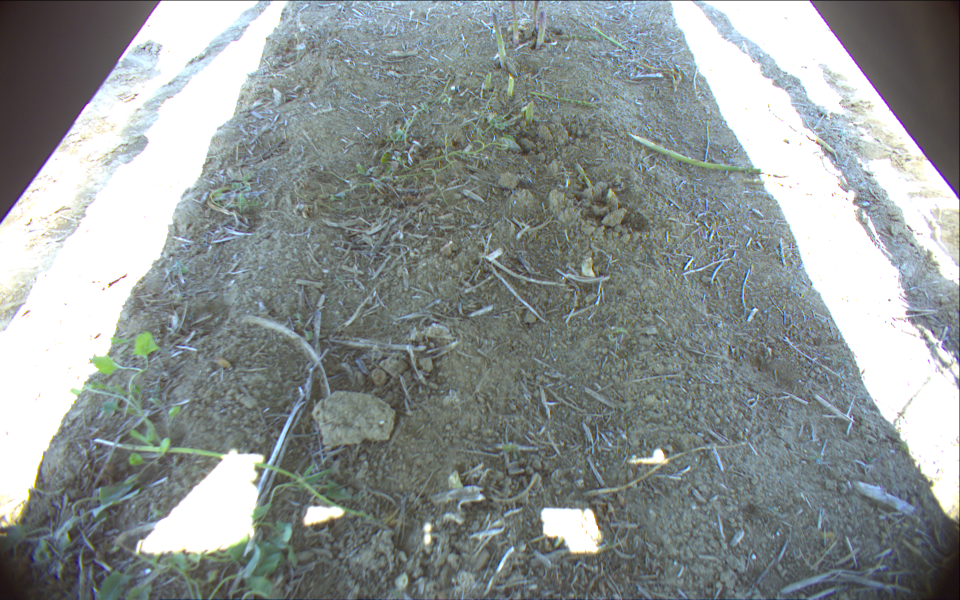aspa: (490, 10, 510, 67), (505, 1, 521, 45), (533, 10, 550, 47), (531, 1, 540, 36)
